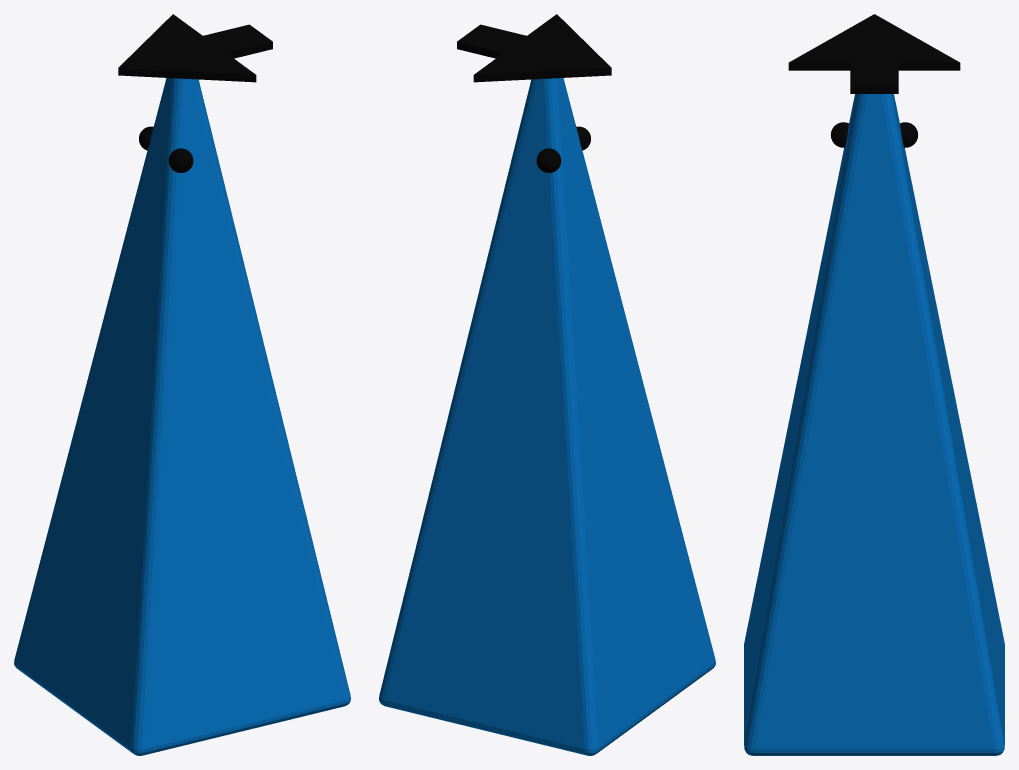
3 views of the same model, side by side, from view 1: azimuth 30°, elevation 25°; view 2: azimuth 150°, elevation 25°; view 3: azimuth 270°, elevation 25° (orthographic). The views are drawn at different scales.
Parts seen in each view (by area): view 1: Cube.019_Cube.006_Material.006, Cube.019_Cube.006_SVGMat; view 2: Cube.019_Cube.006_Material.006, Cube.019_Cube.006_SVGMat; view 3: Cube.019_Cube.006_Material.006, Cube.019_Cube.006_SVGMat.
Boxes of the visible parts, x1,y1,x2,y2 form: Cube.019_Cube.006_Material.006: (14,78,350,755); Cube.019_Cube.006_SVGMat: (118,14,272,172); Cube.019_Cube.006_Material.006: (379,78,715,755); Cube.019_Cube.006_SVGMat: (457,14,611,172); Cube.019_Cube.006_Material.006: (744,94,1004,755); Cube.019_Cube.006_SVGMat: (788,14,960,147).
Bounding box in the file's own units: 0.1762 × 0.4901 × 0.1762.
